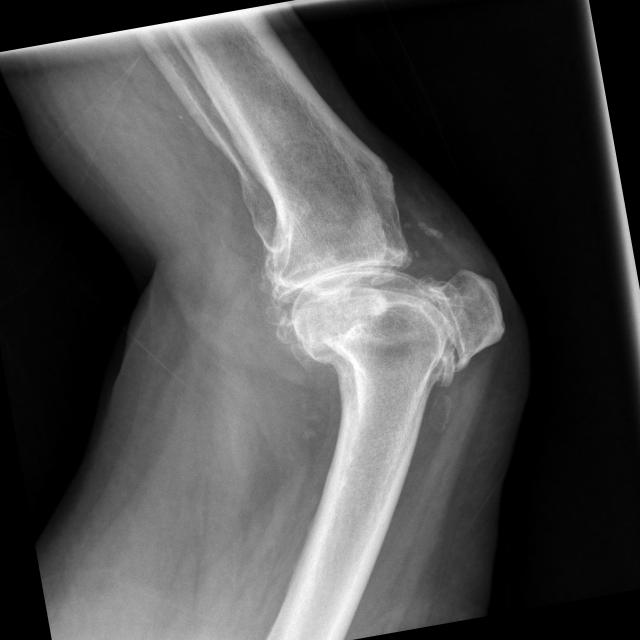Knee: (250, 167, 515, 418)
